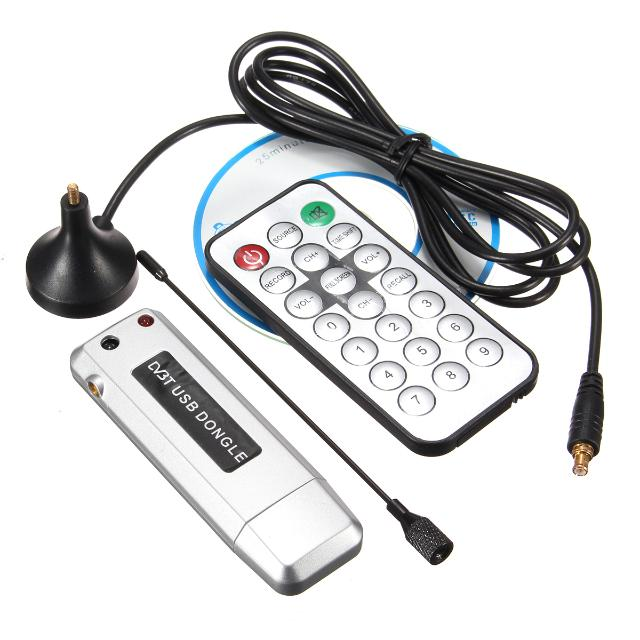USB-Flash-Drive: (68, 311, 368, 613)
